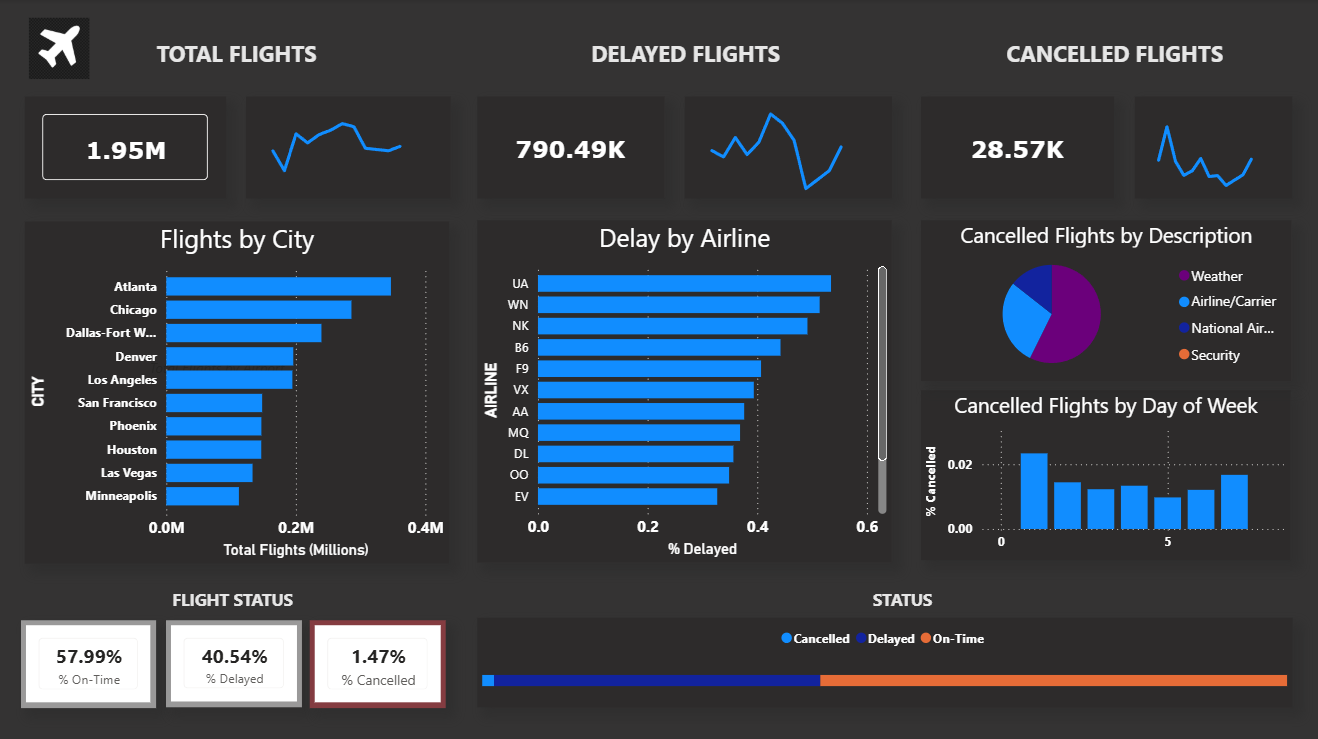

Layout of this report page (visuals, bound fields, positions):
{"tool":"powerbi","page":{"name":"Flight Status Dashboard","canvas":[1280,720],"ordinal":1},"visuals":[{"type":"textbox","box":[111,32.9,242.6,45.2],"z":0},{"type":"textbox","box":[552.4,32.9,226.2,46.6],"z":1000},{"type":"textbox","box":[958.2,32.9,244,46.6],"z":2000},{"type":"textbox","box":[120.8,341.7,185.2,37],"z":6000},{"type":"textbox","box":[561.2,340.3,185.2,37],"z":7000},{"type":"textbox","box":[160.4,563.4,135.7,37],"z":10000},{"type":"textbox","box":[32.9,644.9,135.8,37],"z":11000},{"type":"textbox","box":[159.2,644.9,135.8,37],"z":12000},{"type":"textbox","box":[279.9,644.9,135.8,37],"z":13000},{"type":"cardVisual","fields":{"Data":["flights.Total Flights"]},"box":[28.2,94.3,194.6,98.7],"z":14000},{"type":"lineChart","fields":{"Category":["flights.MONTH"],"Y":["flights.Total Flights"]},"box":[240.7,94.3,197.4,98.7],"z":15000},{"type":"cardVisual","fields":{"Data":["flights.Cancelled Flights"]},"box":[893.2,94.3,186.4,98.7],"z":16000},{"type":"lineChart","fields":{"Category":["flights.MONTH"],"Y":["flights.Cancelled Flights"]},"box":[1098.8,94.3,152.2,98.7],"z":17000},{"type":"cardVisual","fields":{"Data":["flights.% On-Time"]},"box":[24.1,600.1,130.2,85],"z":18000},{"type":"cardVisual","fields":{"Data":["flights.% Delayed"]},"box":[163.9,600.1,131.6,83.6],"z":19000},{"type":"cardVisual","fields":{"Data":["flights.% Cancelled"]},"box":[302.4,600.1,131.6,85],"z":20000},{"type":"barChart","title":"Flights by City","fields":{"Category":["airports.CITY"],"Y":["flights.Total Flights"]},"box":[28.2,214.9,409.9,330.4],"z":21000},{"type":"barChart","title":"Delay by Airline","fields":{"Category":["flights.AIRLINE"],"Y":["flights.% Delayed"]},"box":[464.1,213.6,400.3,330.4],"z":22000},{"type":"pieChart","title":"Cancelled Flights by Description","fields":{"Category":["cancellation_codes.CANCELLATION_DESCRIPTION"],"Y":["flights.Cancelled Flights"]},"box":[893.2,213.6,357.8,154.9],"z":23000},{"type":"clusteredColumnChart","title":"Cancelled Flights by Day of Week","fields":{"Y":["flights.% Cancelled"],"Category":["flights.DAY_OF_WEEK"]},"box":[892.8,377.6,357.1,164.1],"z":24000},{"type":"hundredPercentStackedBarChart","fields":{"Y":["flights.Total Flights"],"Series":["flights.Status"]},"box":[464.1,597.4,786.8,86.4],"z":25000},{"type":"cardVisual","fields":{"Data":["flights.Delayed Flights"]},"box":[464.1,94.3,180.9,98.7],"z":26000},{"type":"lineChart","fields":{"Category":["flights.MONTH"],"Y":["flights.Delayed Flights"]},"box":[664.3,94.3,200.1,98.7],"z":27000},{"type":"textbox","box":[797.8,563.4,154.9,37],"z":28000},{"type":"image","box":[27.7,18.1,66.4,59.1],"z":28001}]}

Visuals, with their boxes in screenshot pixels (x1, y1, x2, y2), scaled from the page's 1280x720 canvas onto the 1318x739 screenshot:
textbox: rect(114, 34, 364, 80)
textbox: rect(569, 34, 802, 82)
textbox: rect(987, 34, 1238, 82)
textbox: rect(124, 351, 315, 389)
textbox: rect(578, 349, 769, 387)
textbox: rect(165, 578, 305, 616)
textbox: rect(34, 662, 174, 700)
textbox: rect(164, 662, 304, 700)
textbox: rect(288, 662, 428, 700)
cardVisual - flights.Total Flights: rect(29, 97, 229, 198)
lineChart - flights.MONTH x flights.Total Flights: rect(248, 97, 451, 198)
cardVisual - flights.Cancelled Flights: rect(920, 97, 1112, 198)
lineChart - flights.MONTH x flights.Cancelled Flights: rect(1131, 97, 1288, 198)
cardVisual - flights.% On-Time: rect(25, 616, 159, 703)
cardVisual - flights.% Delayed: rect(169, 616, 304, 702)
cardVisual - flights.% Cancelled: rect(311, 616, 447, 703)
"Flights by City" barChart: rect(29, 221, 451, 560)
"Delay by Airline" barChart: rect(478, 219, 890, 558)
"Cancelled Flights by Description" pieChart: rect(920, 219, 1288, 378)
"Cancelled Flights by Day of Week" clusteredColumnChart: rect(919, 388, 1287, 556)
hundredPercentStackedBarChart - flights.Total Flights x flights.Status: rect(478, 613, 1288, 702)
cardVisual - flights.Delayed Flights: rect(478, 97, 664, 198)
lineChart - flights.MONTH x flights.Delayed Flights: rect(684, 97, 890, 198)
textbox: rect(821, 578, 981, 616)
image: rect(29, 19, 97, 79)
